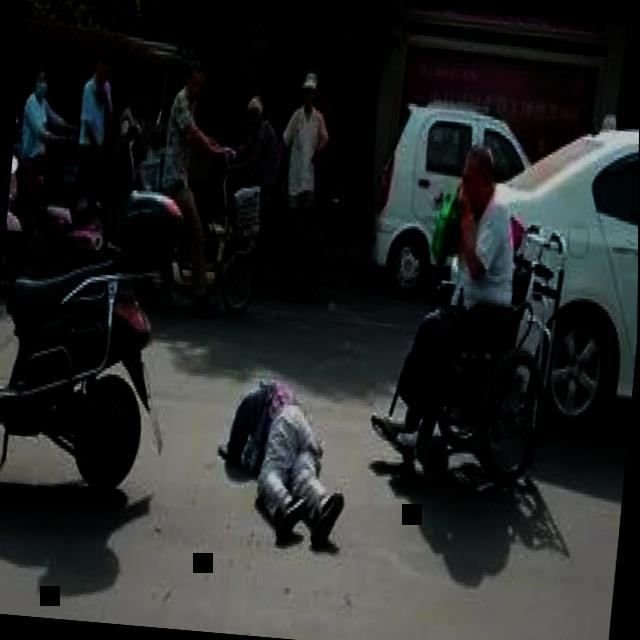Fall-Detected: (206, 348, 368, 557)
